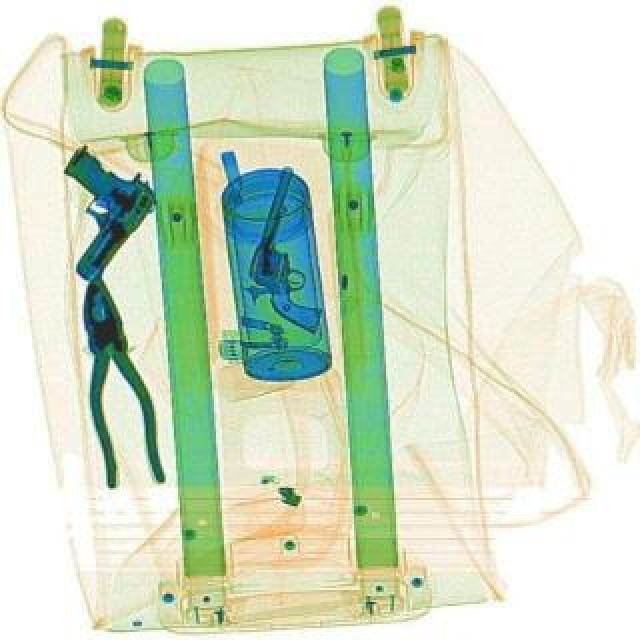gun: (10, 138, 162, 284), (234, 164, 358, 332)
wrench: (66, 264, 166, 492)
